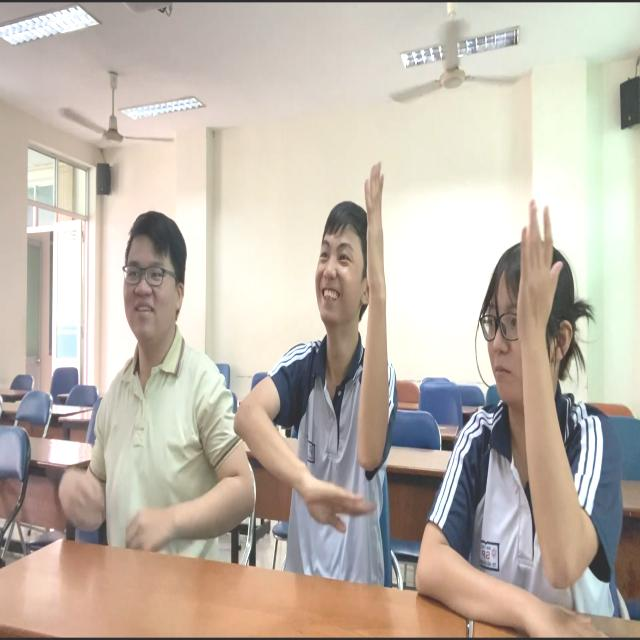raise_hand: (470, 188, 629, 618), (297, 159, 394, 562)
